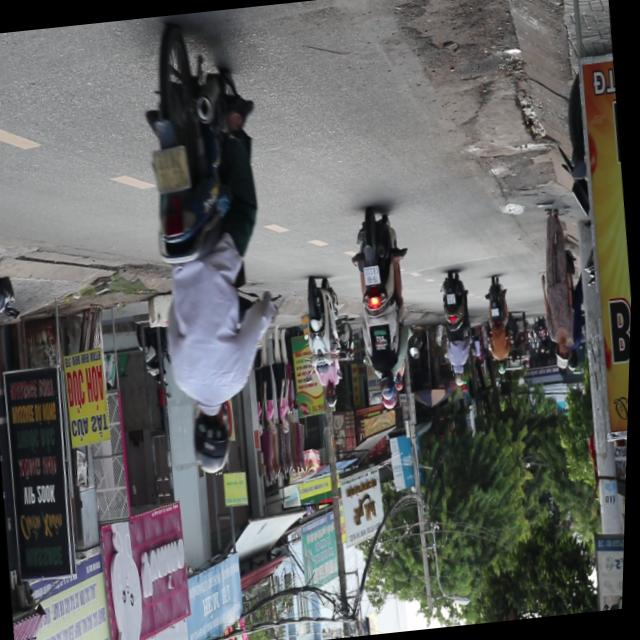helmet: (187, 401, 239, 476), (379, 373, 397, 402)
licenseplate: (122, 18, 298, 481), (342, 206, 424, 410)
nohelmet: (151, 146, 191, 191), (363, 266, 380, 284)
